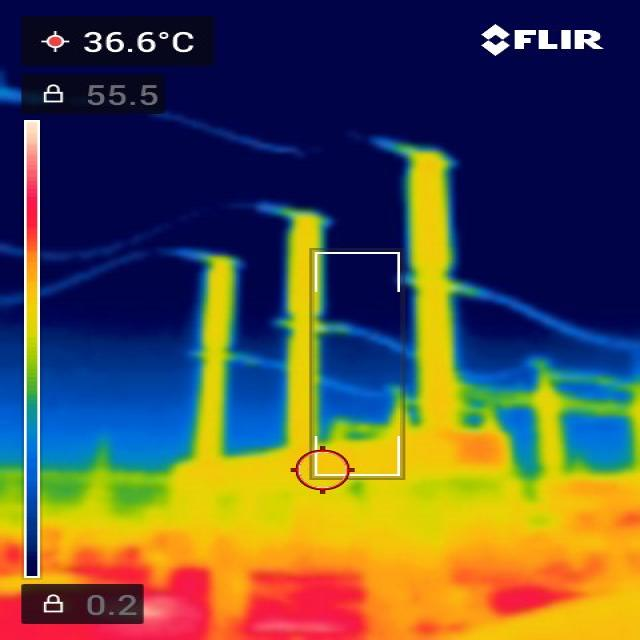Zona_Atenco: (459, 547, 606, 634)
Zona_Critica: (7, 549, 211, 638), (239, 569, 359, 637)
